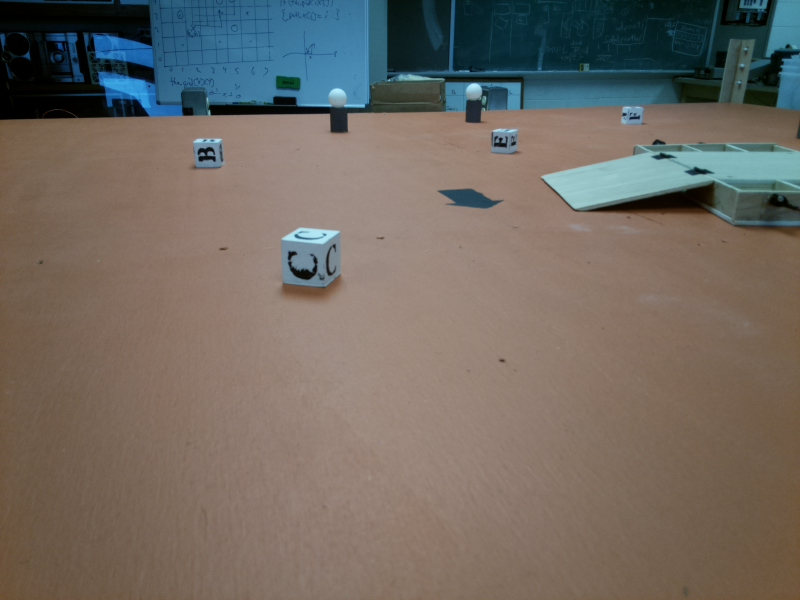blockB: (191, 137, 224, 171)
blockC: (277, 224, 346, 294)
blockE: (489, 126, 520, 158)
blockF: (618, 103, 649, 128)
corner: (718, 36, 757, 104)
obstacle: (324, 88, 353, 138), (460, 81, 489, 124)
side: (713, 183, 800, 232)
slope: (543, 151, 711, 223)
start: (435, 181, 506, 215)
